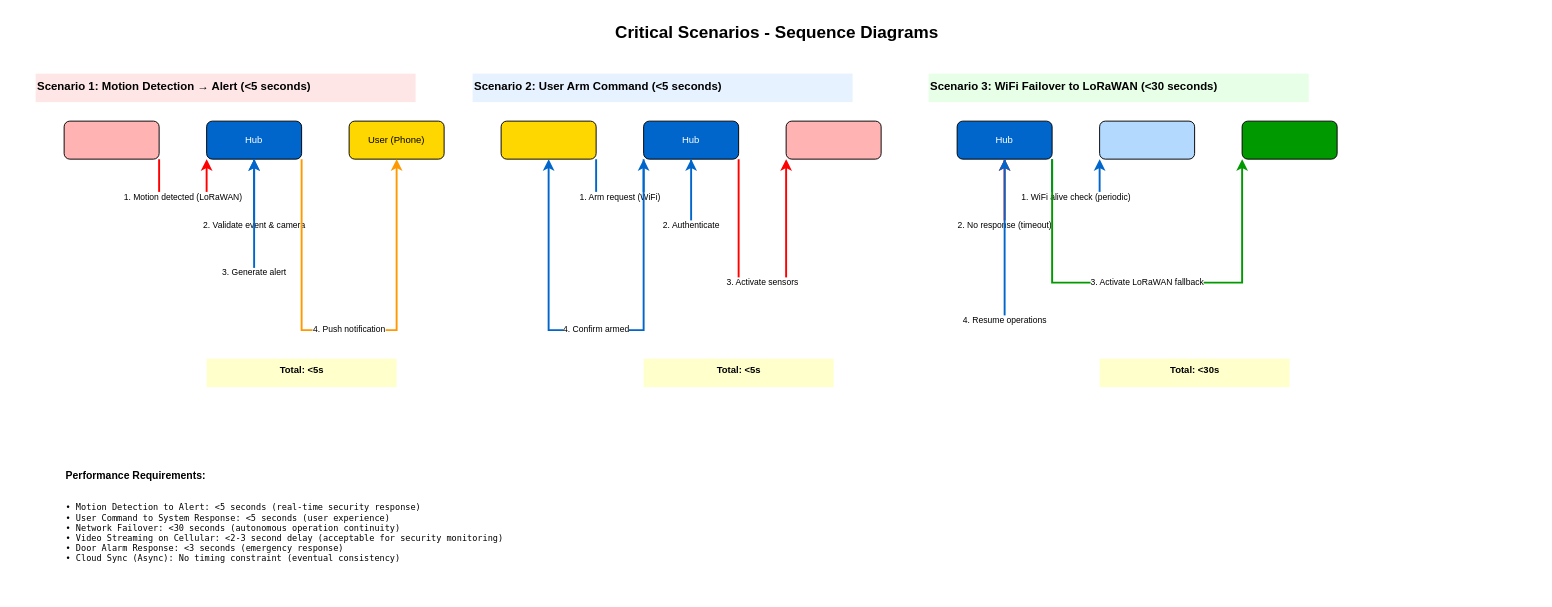
This 1552x607 diagram has some shape labels left out. The centre of each missing label's shape, as x and y in pixels:
LoRaWAN: the point at 1289,139
Motion Sensor: the point at 111,139
Network: the point at 1147,139
Sensors: the point at 833,139
User (App): the point at 548,139
